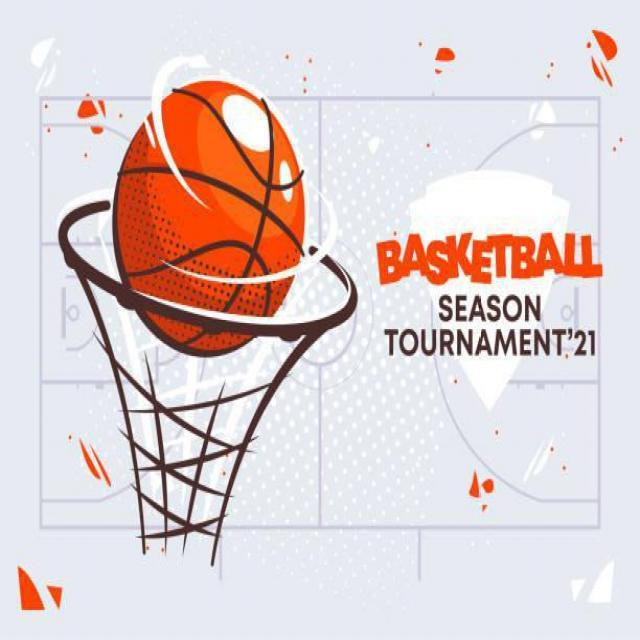Basketball: (113, 81, 306, 357)
hoop: (60, 200, 358, 567)
